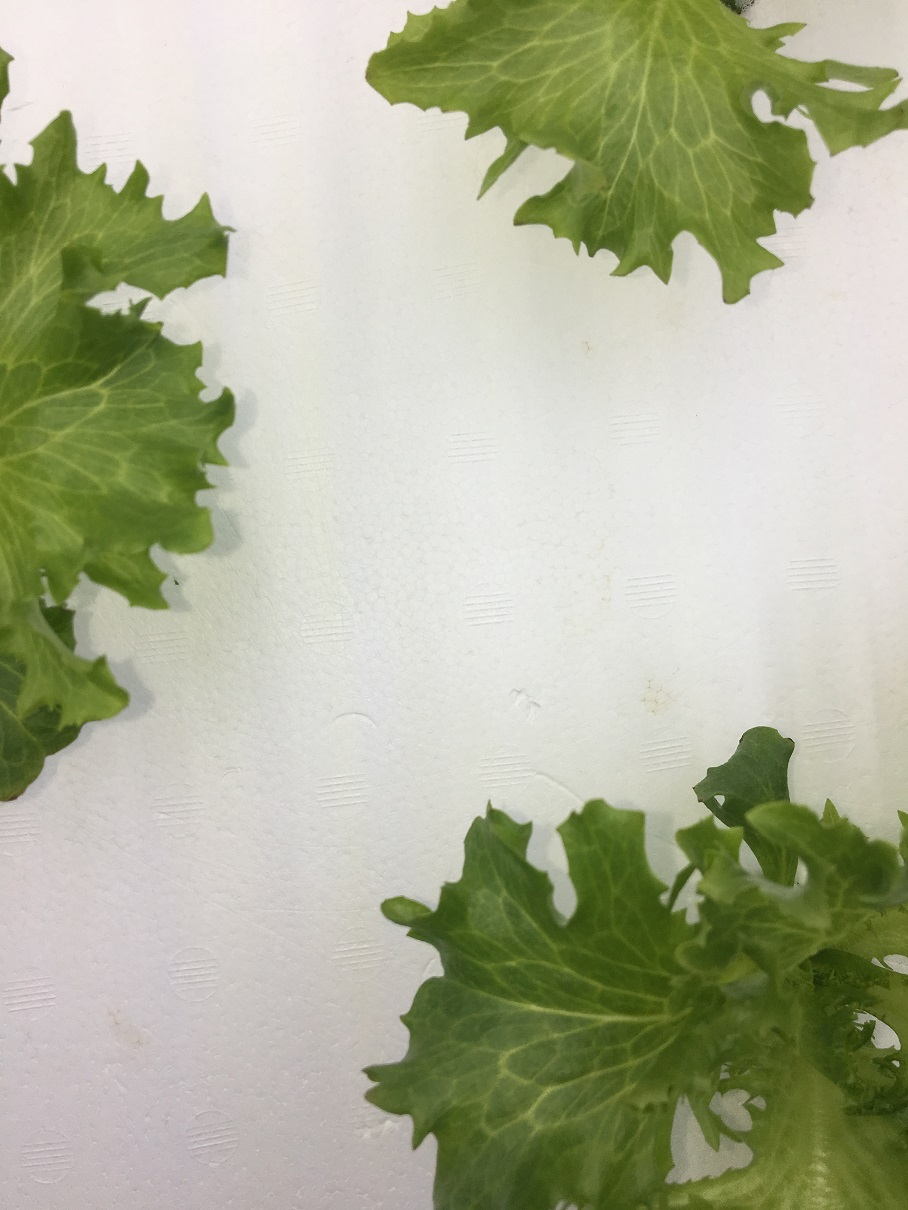tipburn: (718, 285, 748, 315), (784, 728, 805, 752), (731, 726, 750, 749), (691, 794, 709, 811)
